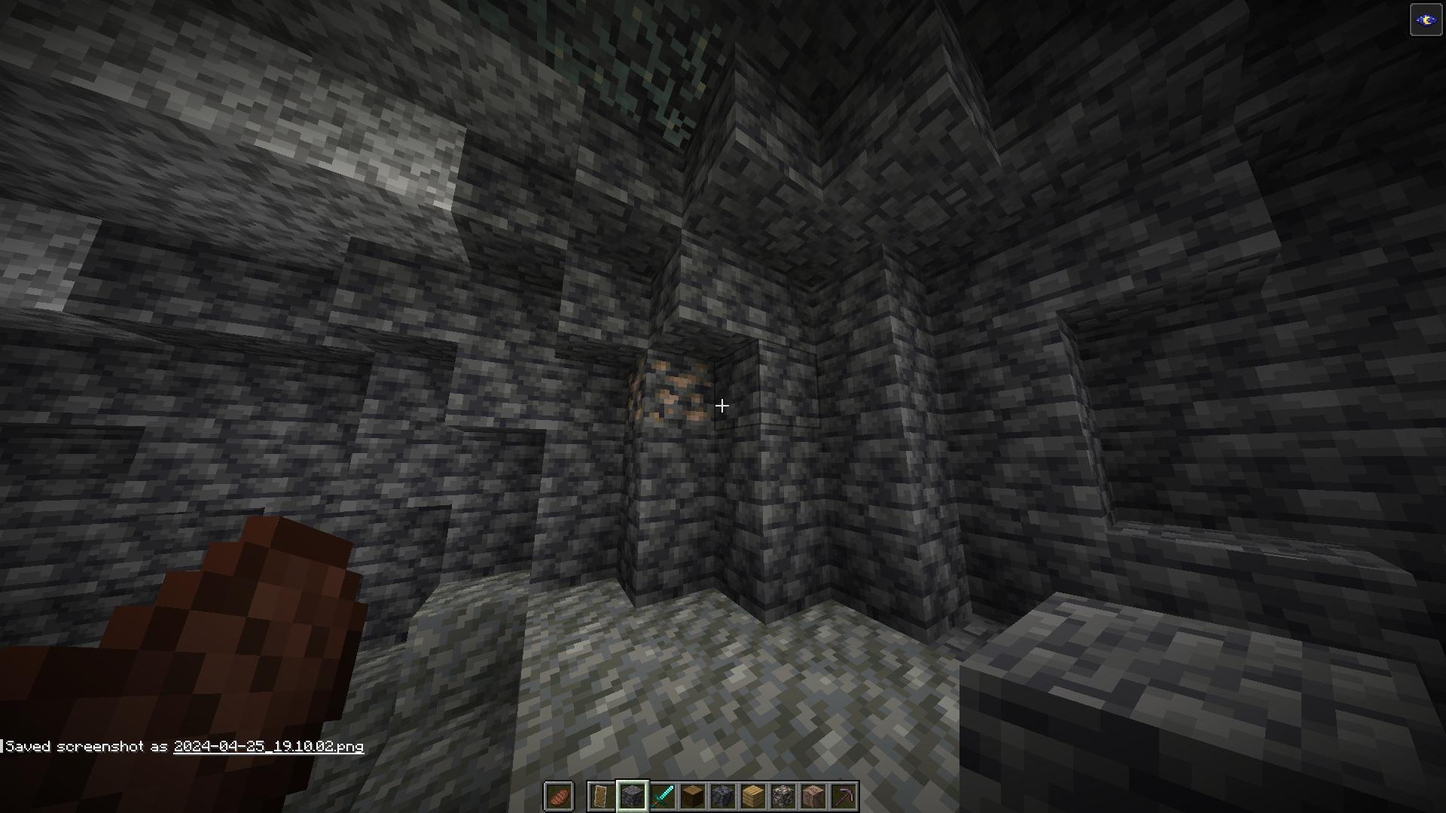iron ore: (624, 359, 718, 426)
